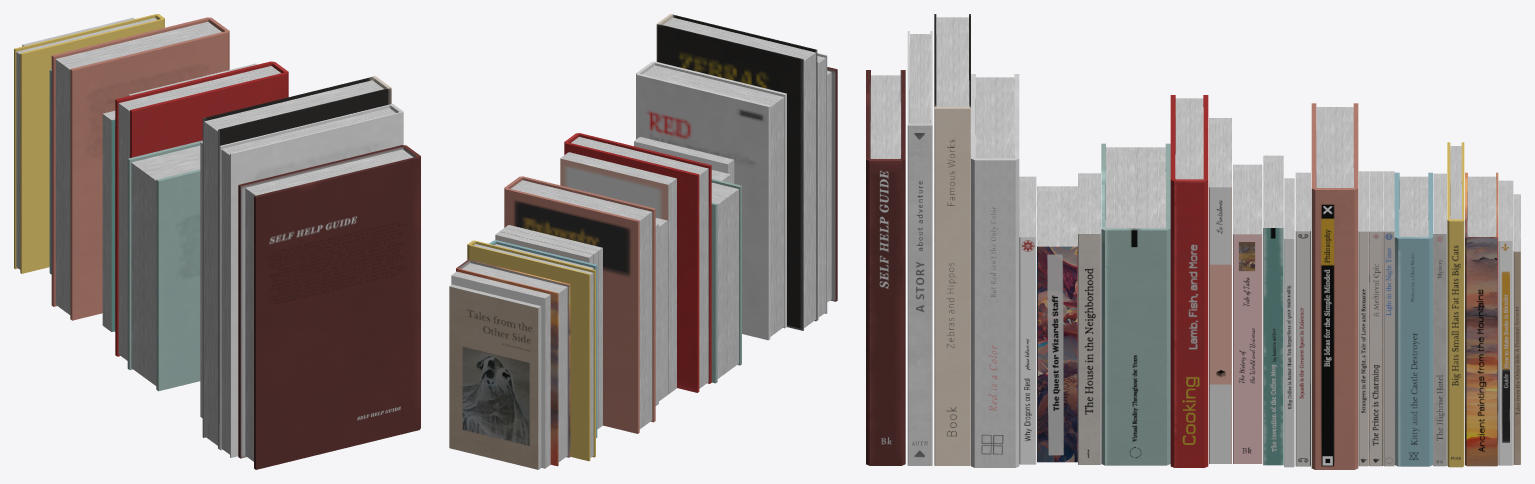
Rendered from books01.glb.
3 views of the same model, side by side, from view 1: azimuth 30°, elevation 25°; view 2: azimuth 150°, elevation 25°; view 3: azimuth 270°, elevation 25° (orthographic). The views are drawn at different scales.
Parts seen in each view (by area): view 1: Cube; view 2: Cube; view 3: Cube.
Part boxes in pixels (x1=…): Cube: x1=14, y1=14, x2=420, y2=469; Cube: x1=449, y1=14, x2=837, y2=469; Cube: x1=866, y1=14, x2=1520, y2=469.
Bounding box in the file's own units: 1.46 × 2.46 × 4.09.
Materials: 1 (1 with a texture image).
